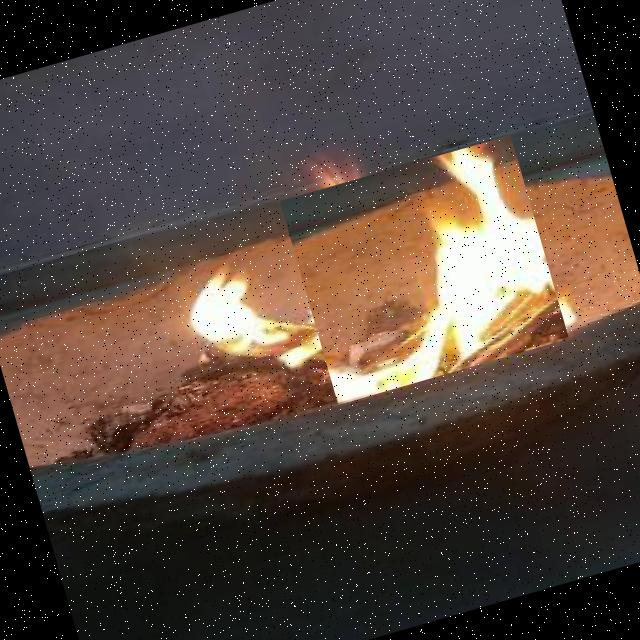fire: (280, 134, 568, 404), (168, 227, 302, 374)
